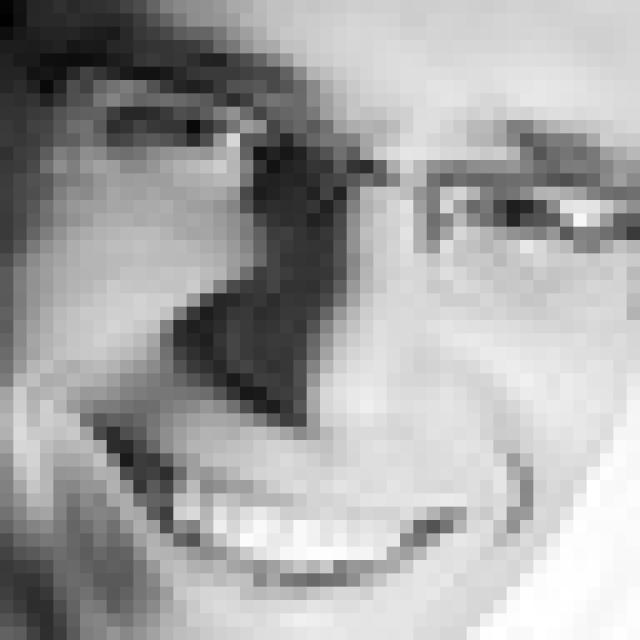happy: (20, 33, 640, 640)
